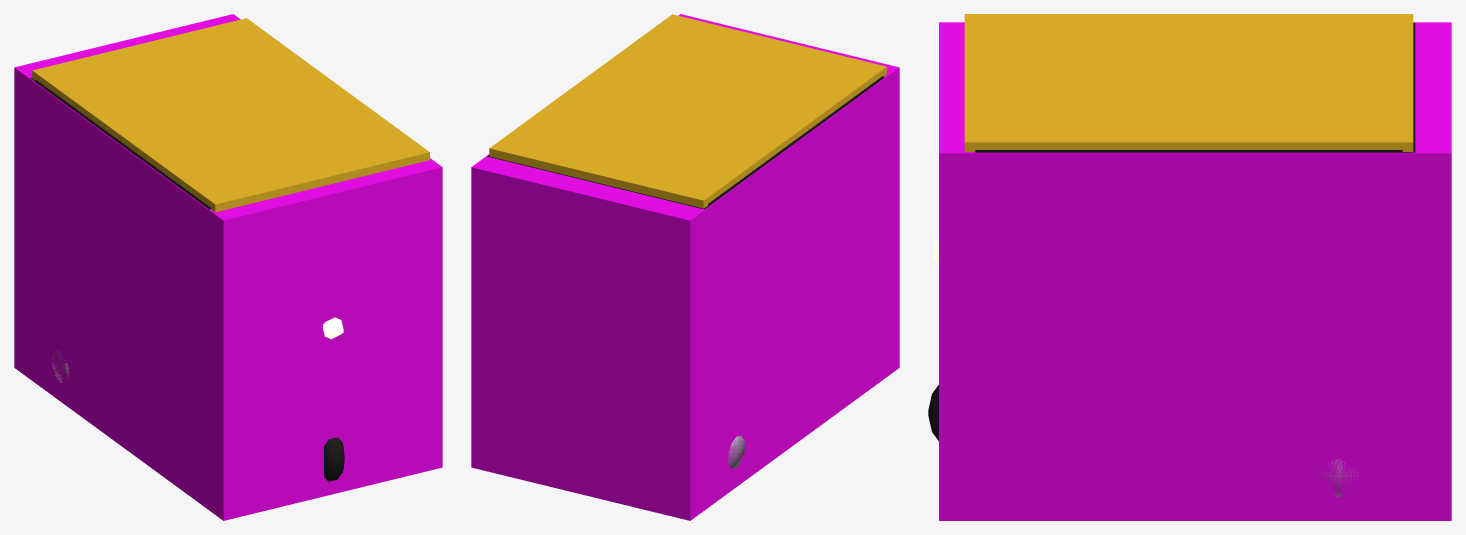
The model's file is PRP_Auto_Rickshaw_A.glb.
3 views of the same model, side by side, from view 1: azimuth 30°, elevation 25°; view 2: azimuth 150°, elevation 25°; view 3: azimuth 270°, elevation 25° (orthographic). The views are drawn at different scales.
Parts seen in each view (by area): view 1: COL_Body, PRP_Auto_Rickshaw_A_Mesh, WHEEL_F; view 2: COL_Body, PRP_Auto_Rickshaw_A_Mesh; view 3: COL_Body, PRP_Auto_Rickshaw_A_Mesh.
Part boxes in pixels (box(x1,y1,x2,y2)): COL_Body: box(14, 14, 442, 520); PRP_Auto_Rickshaw_A_Mesh: box(30, 18, 429, 339); WHEEL_F: box(324, 437, 344, 481); COL_Body: box(471, 14, 899, 520); PRP_Auto_Rickshaw_A_Mesh: box(487, 14, 886, 209); COL_Body: box(939, 22, 1451, 520); PRP_Auto_Rickshaw_A_Mesh: box(934, 14, 1415, 266).
Bounding box in the file's own units: 1.45 × 1.95 × 2.45.
